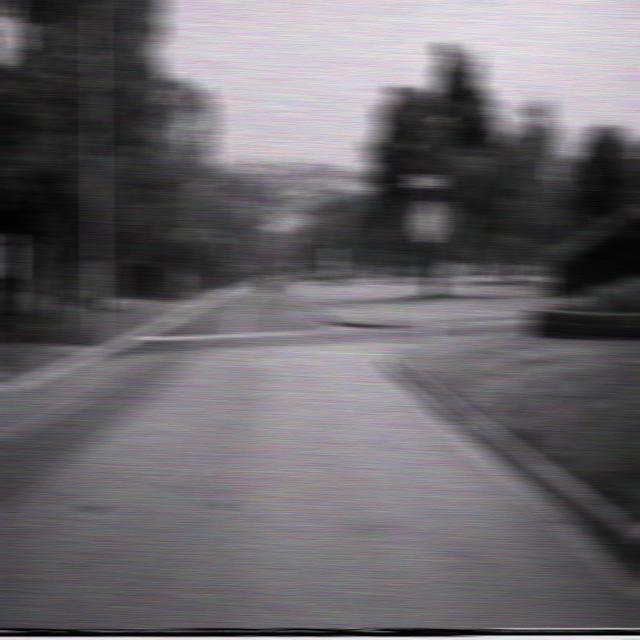stop: (411, 198, 443, 242)
